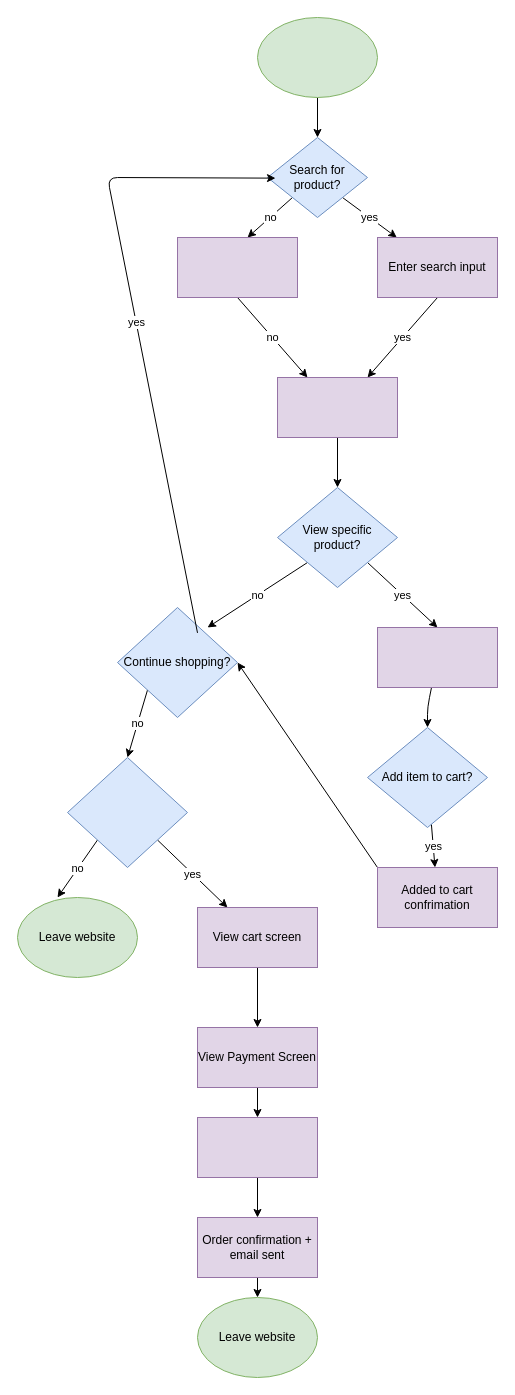
Some shapes in this 515 by 1395 pixel diagram are drawn without their labels. The centre of each missing label's shape, as x and y in pixels:
"Checkout?" goes at [127,812].
"Enter payment info" goes at [257,1147].
"Enter Wesbite" goes at [317,57].
"Explore homepage" goes at [237,267].
"Look over products" goes at [337,407].
"Open product page" goes at [437,657].
